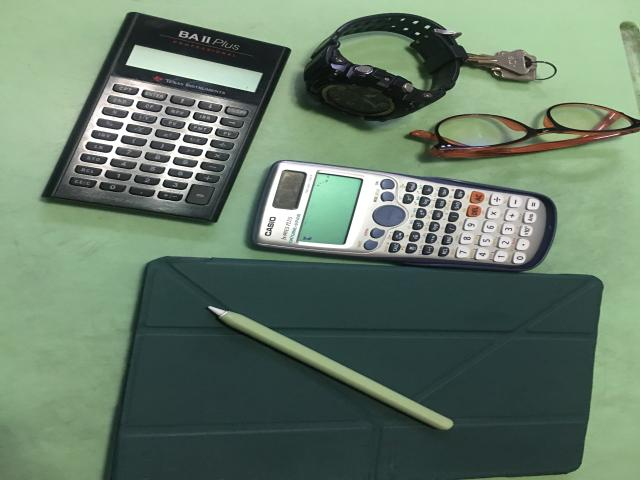Glasses: (410, 103, 640, 158)
Keys: (467, 50, 557, 81)
Watch: (303, 13, 468, 121)
